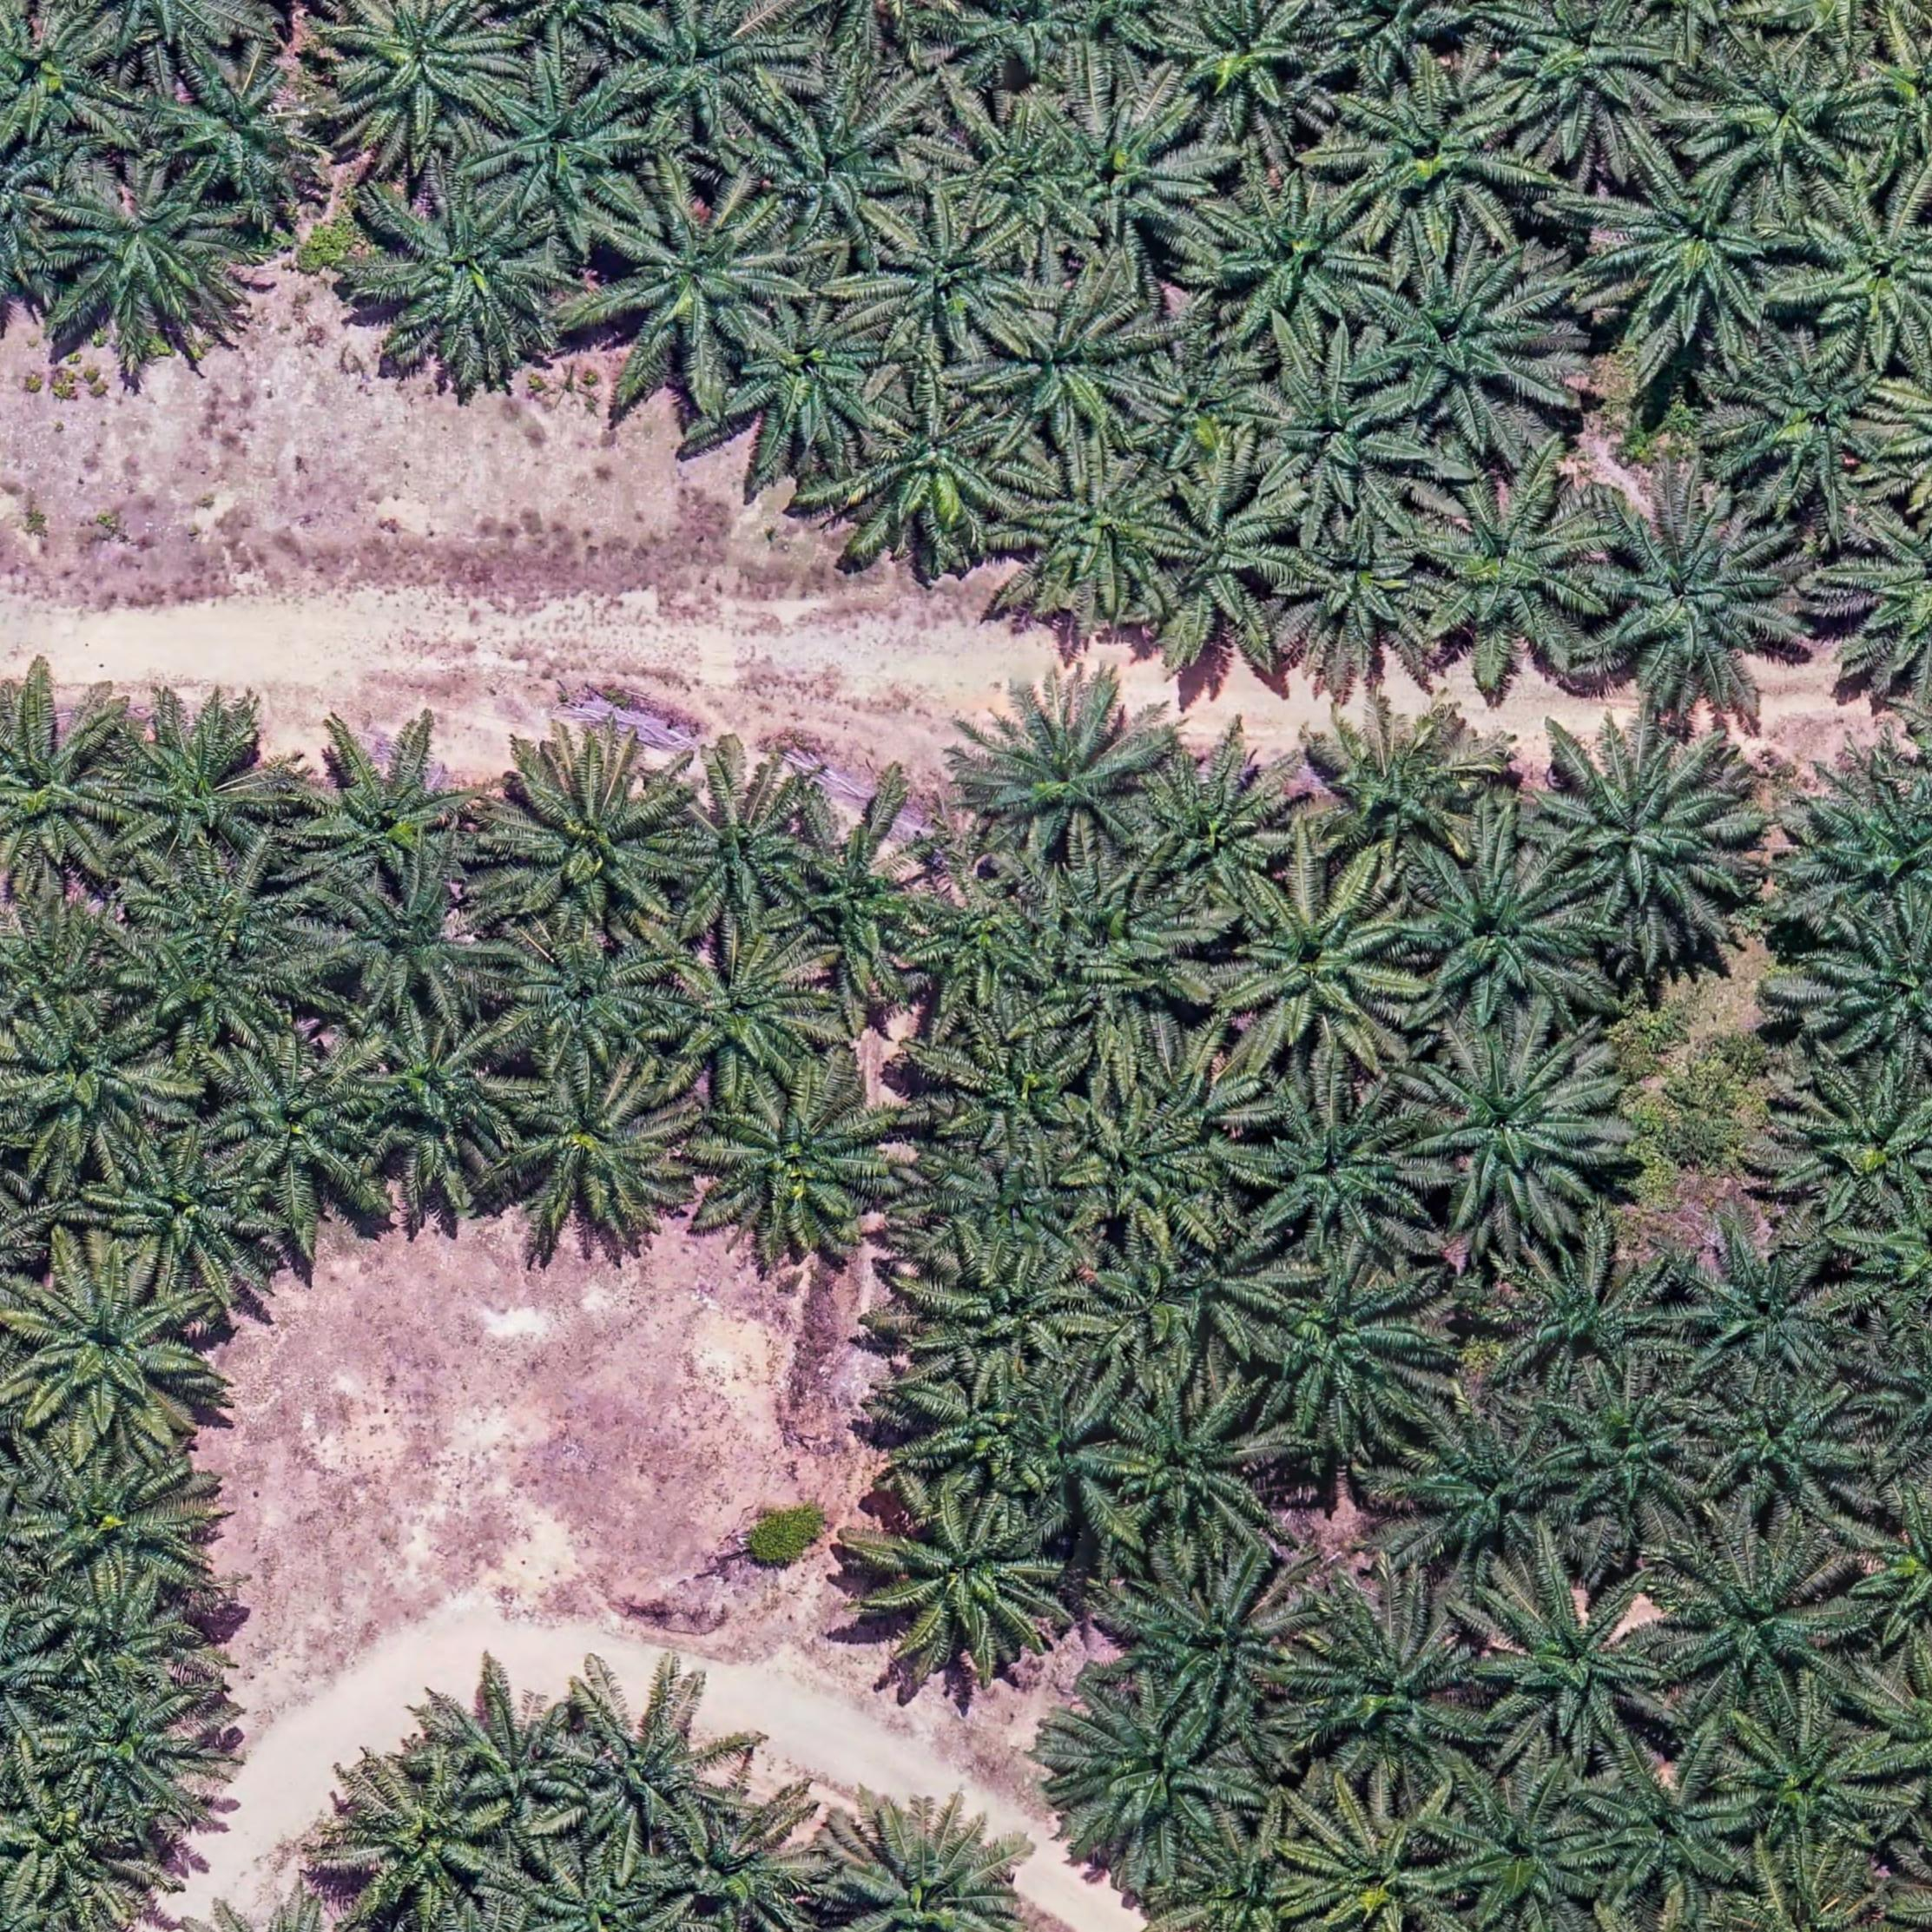palmtree: (1578, 486, 1808, 706), (1528, 725, 1754, 939), (1401, 1025, 1621, 1234), (1208, 864, 1421, 1076), (688, 1072, 914, 1269), (1586, 148, 1802, 353), (961, 669, 1174, 870), (103, 871, 324, 1065), (485, 743, 698, 940), (1053, 1683, 1269, 1876), (1287, 1598, 1496, 1794), (11, 1255, 214, 1454), (1366, 247, 1573, 442), (1397, 842, 1601, 1032), (1326, 67, 1532, 254), (361, 187, 564, 376), (1293, 697, 1501, 881), (1252, 1258, 1453, 1449), (1652, 1526, 1858, 1712), (1415, 471, 1611, 666), (605, 187, 803, 378), (1477, 1575, 1678, 1763), (1102, 1552, 1315, 1727), (43, 162, 251, 340), (872, 1497, 1072, 1678), (492, 1061, 693, 1242), (291, 733, 498, 905), (1193, 169, 1389, 350), (1716, 338, 1907, 520), (555, 1687, 744, 1869), (1101, 1381, 1289, 1563), (1248, 1085, 1439, 1263), (1001, 447, 1190, 624), (1248, 348, 1434, 525), (1051, 868, 1212, 1072), (649, 927, 839, 1098), (1394, 1408, 1583, 1579), (843, 382, 1029, 554), (7, 995, 187, 1171), (322, 864, 515, 1028), (208, 1035, 393, 1205), (350, 1008, 531, 1181), (970, 1369, 1145, 1546), (983, 277, 1165, 447), (337, 1755, 518, 1925), (1062, 1079, 1245, 1247), (1688, 46, 1883, 203), (752, 86, 930, 257), (1043, 91, 1214, 269), (475, 59, 651, 231), (1691, 1368, 1881, 1527), (1781, 756, 1932, 956), (1490, 1236, 1683, 1392), (143, 49, 329, 211), (787, 807, 953, 986), (98, 1131, 283, 1290), (111, 712, 293, 874), (1124, 755, 1302, 920), (327, 0, 518, 153), (1276, 511, 1456, 673), (1582, 1751, 1759, 1913), (1676, 1236, 1863, 1388), (1489, 0, 1679, 149), (1541, 1380, 1714, 1544), (729, 294, 902, 458), (41, 1669, 221, 1825), (906, 1136, 1101, 1280), (822, 1803, 1040, 1932), (1431, 1777, 1608, 1932), (23, 1445, 208, 1592), (1786, 188, 1932, 374), (491, 926, 673, 1075), (1722, 1711, 1897, 1865), (622, 0, 802, 147), (0, 696, 136, 889), (1161, 0, 1343, 142), (868, 211, 1034, 366), (431, 1690, 599, 1839), (665, 778, 828, 932), (1289, 1795, 1470, 1932), (917, 1247, 1098, 1383), (1784, 1068, 1932, 1232), (938, 1024, 1104, 1166), (1152, 473, 1302, 627), (653, 1806, 833, 1932), (1157, 1219, 1299, 1376), (959, 106, 1106, 257), (0, 1778, 148, 1926), (1830, 492, 1931, 707), (36, 1568, 203, 1696), (1807, 906, 1932, 1077), (907, 876, 1052, 1022), (1130, 344, 1280, 482), (0, 7, 126, 157), (1172, 1831, 1333, 1932)
